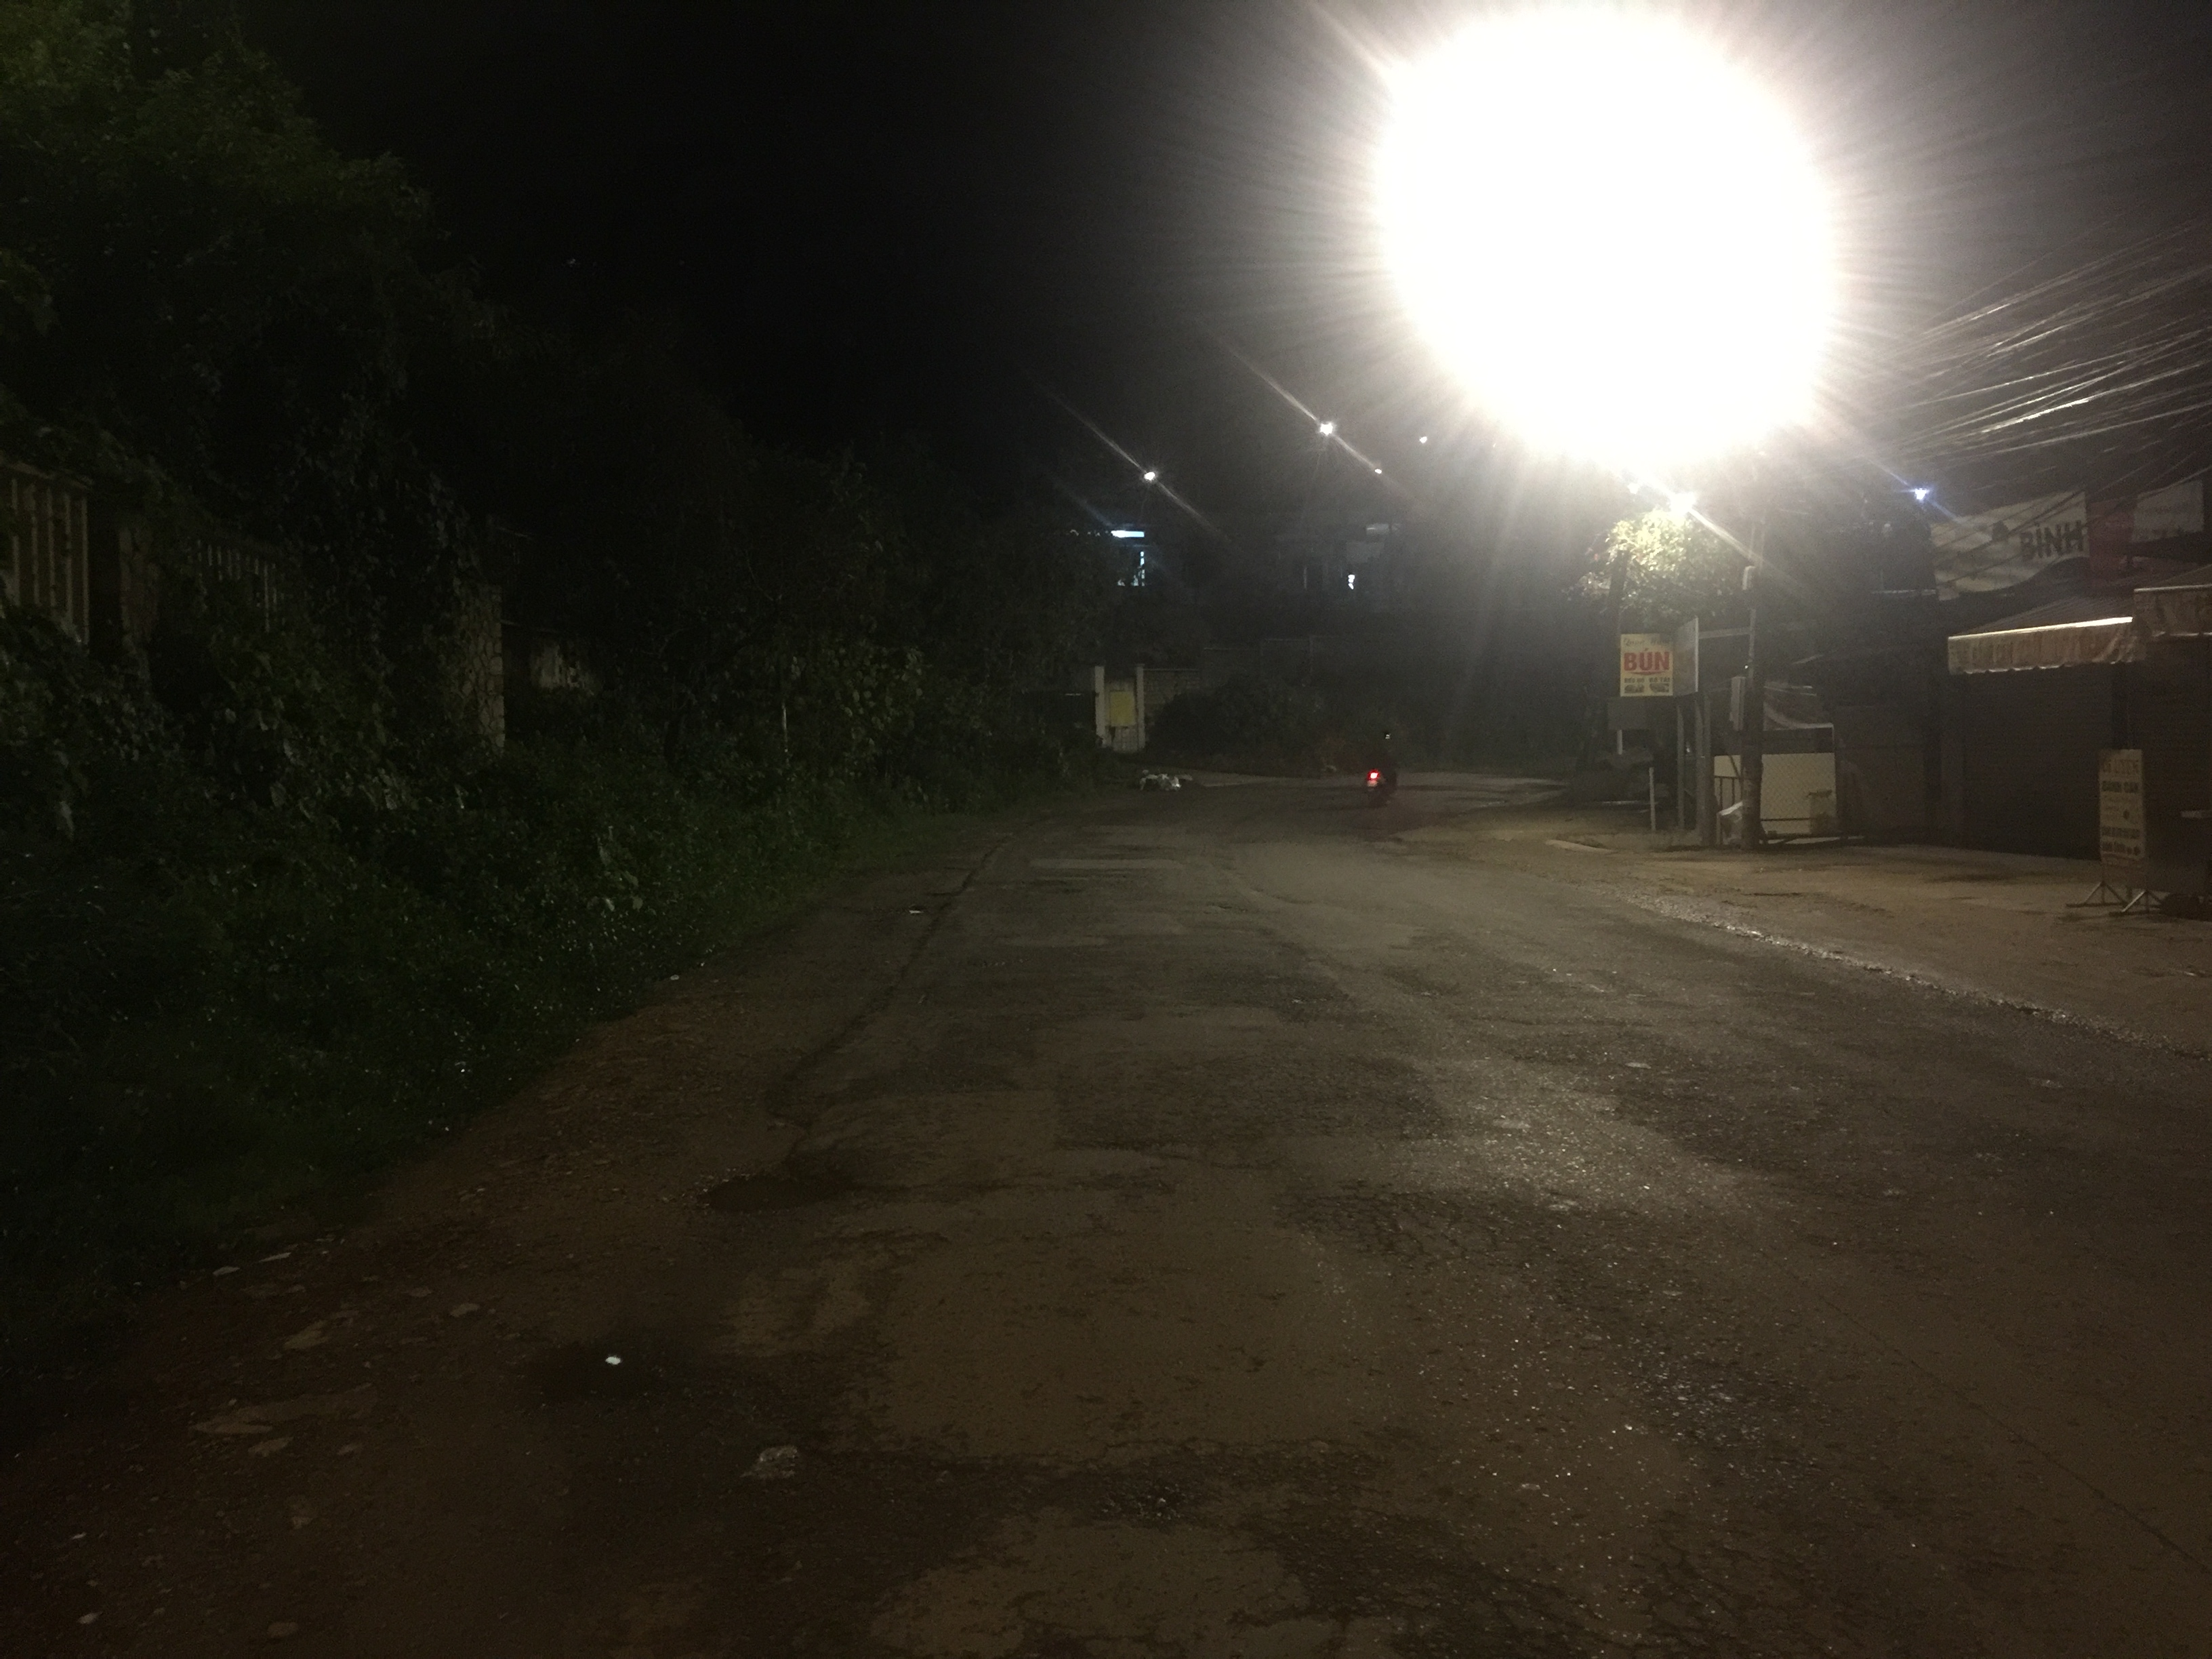hole: (516, 1333, 658, 1401), (690, 1169, 846, 1213)
